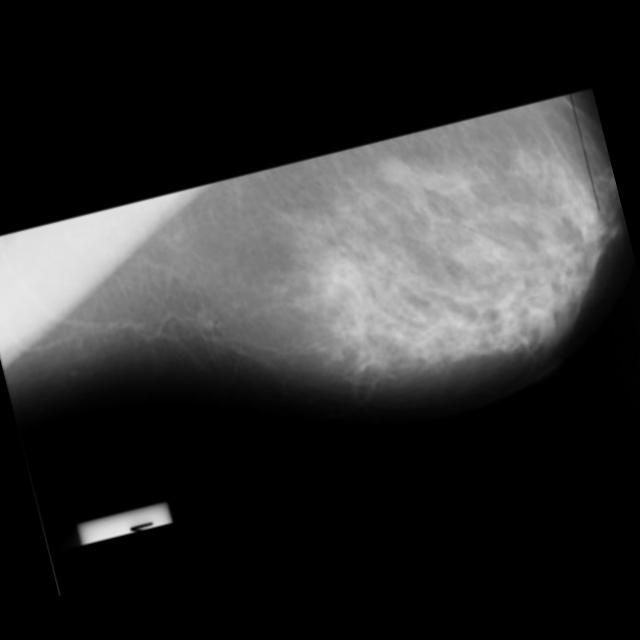ASYM: (376, 154, 411, 189)
